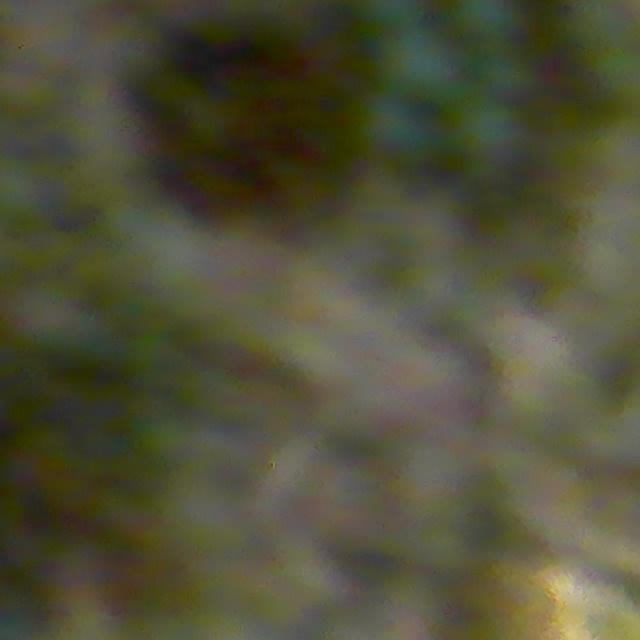SeaGrape: (380, 23, 465, 106), (452, 95, 531, 176), (356, 92, 435, 167), (449, 0, 525, 46)
